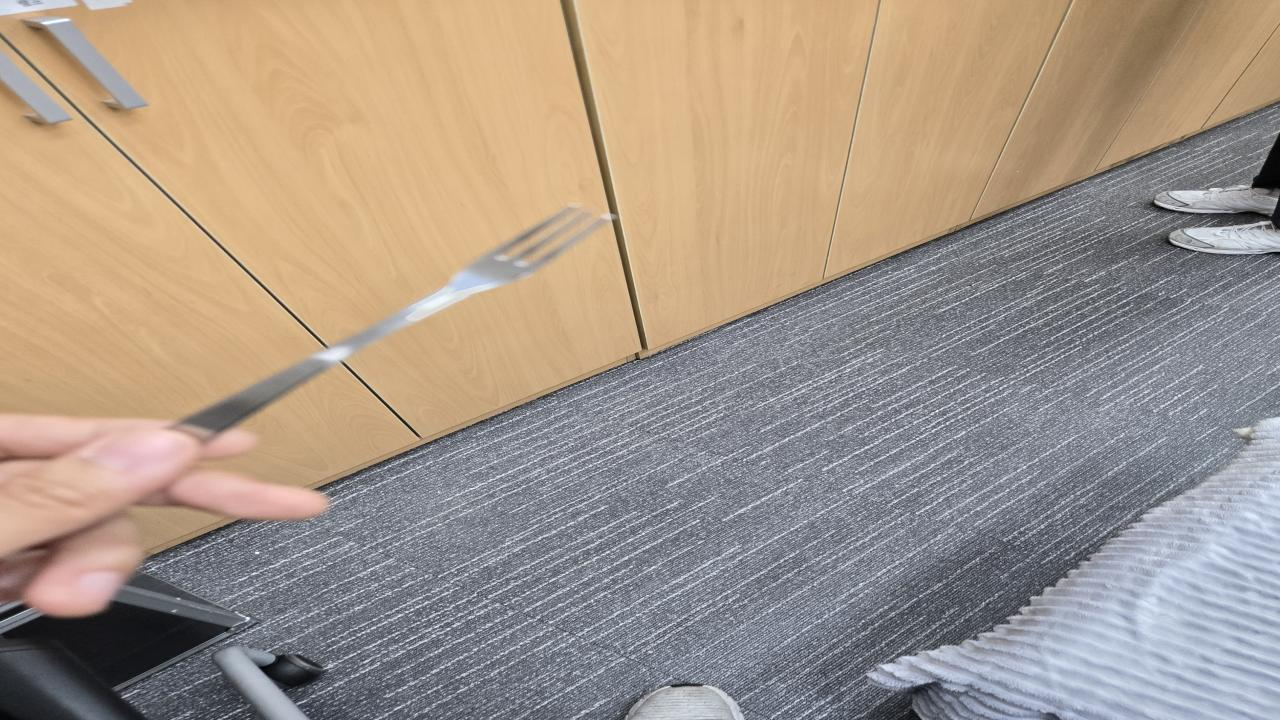fork: (173, 202, 623, 440)
